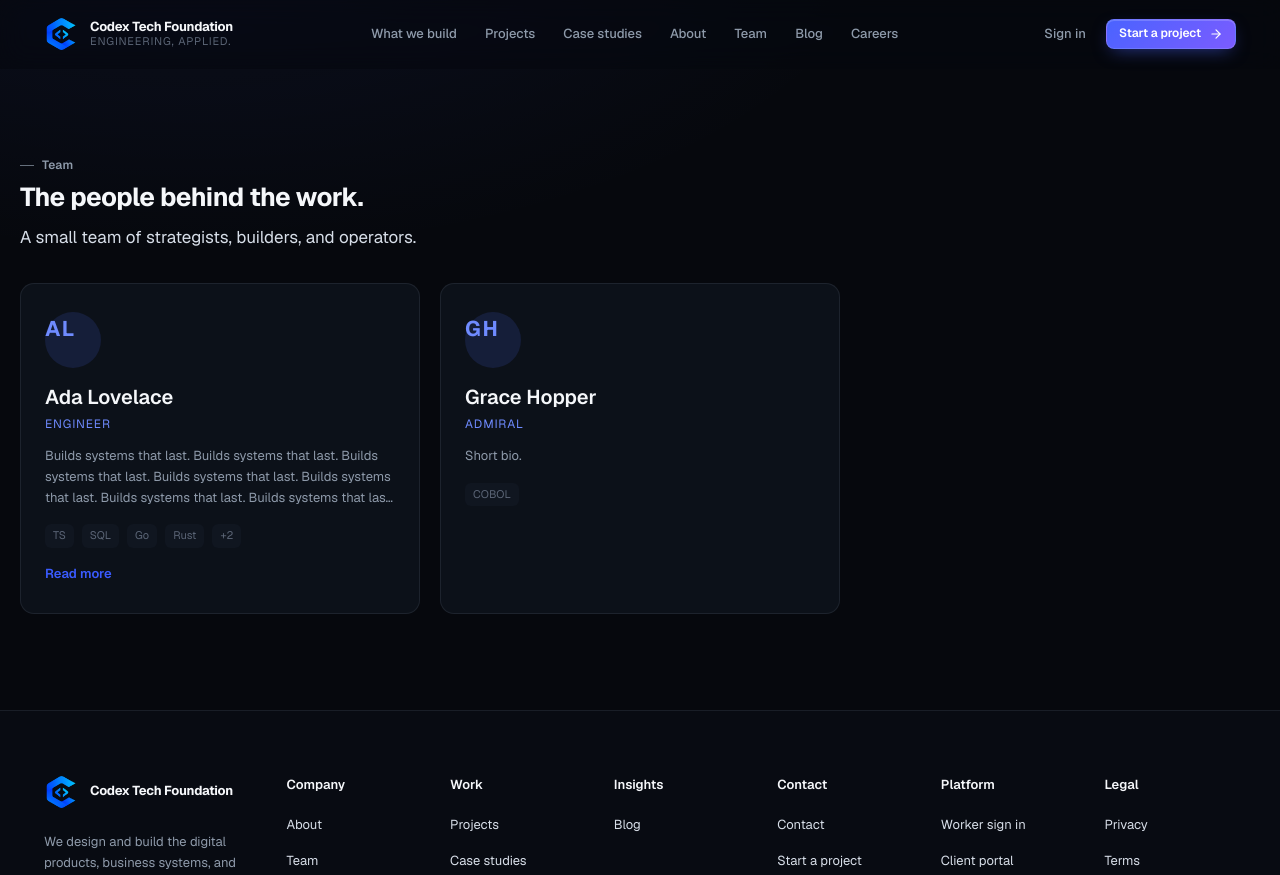
Test case: Team page bios › cuts a long bio short with a Read more that opens the full text, and leaves short bios alone
Expected: the heading "Ada Lovelace" is shown, [45,384,173,411]
Expected: the text "+2" is shown, [212,524,241,548]
Click the button "Read more" at (78, 574), box [45,560,112,589]
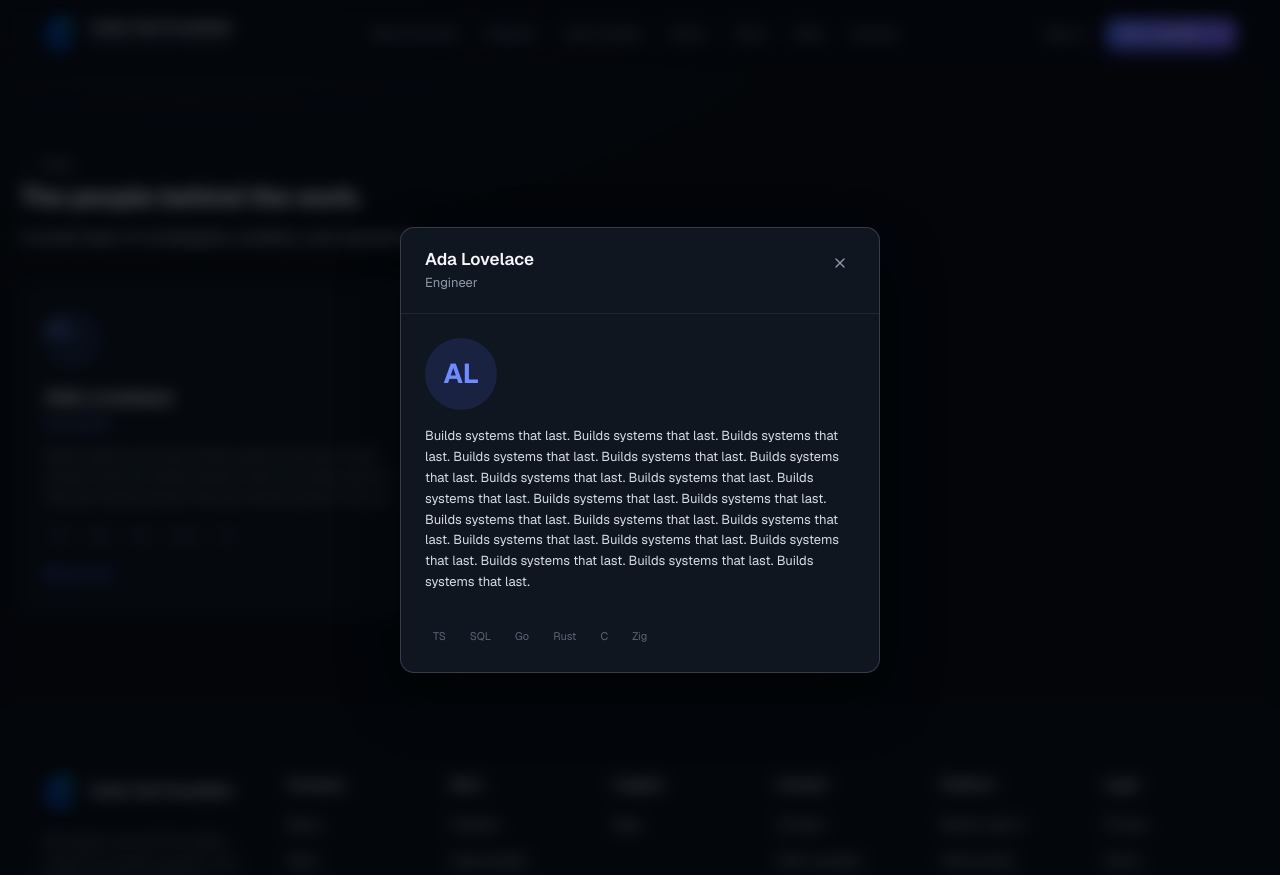
Now the dialog shows "Zig", box [632,629,647,643]
